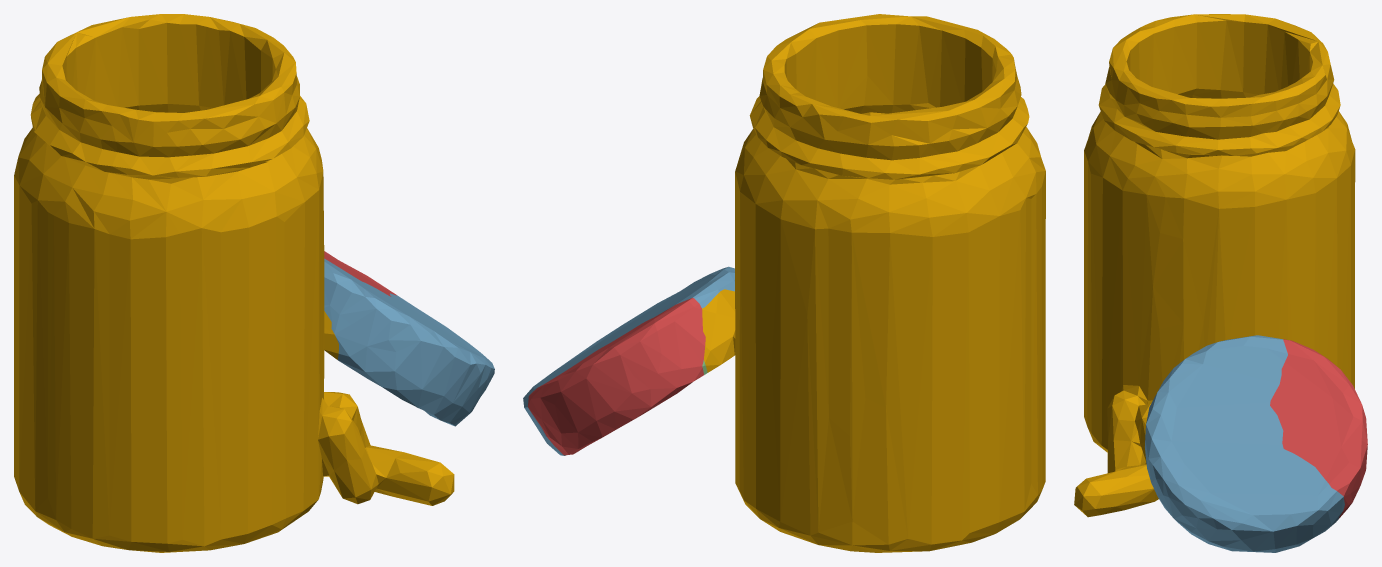
Rendered from fractured_15_4pcs.glb.
3 views of the same model, side by side, from view 1: azimuth 30°, elevation 25°; view 2: azimuth 150°, elevation 25°; view 3: azimuth 270°, elevation 25° (orthographic). The views are drawn at different scales.
Visible parts, largest first — view 1: piece_0.obj, piece_2.obj; view 2: piece_0.obj, piece_1.obj, piece_2.obj; view 3: piece_0.obj, piece_2.obj, piece_1.obj.
Boxes of the visible parts, bbox=[...] form: piece_0.obj: bbox=[14, 14, 454, 552]; piece_2.obj: bbox=[324, 258, 494, 426]; piece_0.obj: bbox=[702, 14, 1045, 552]; piece_1.obj: bbox=[528, 298, 705, 455]; piece_2.obj: bbox=[523, 266, 734, 455]; piece_0.obj: bbox=[1074, 14, 1355, 517]; piece_2.obj: bbox=[1145, 335, 1344, 552]; piece_1.obj: bbox=[1270, 339, 1367, 518].
Size of the model in its own units: 1 by 0.8977 by 0.6338.
